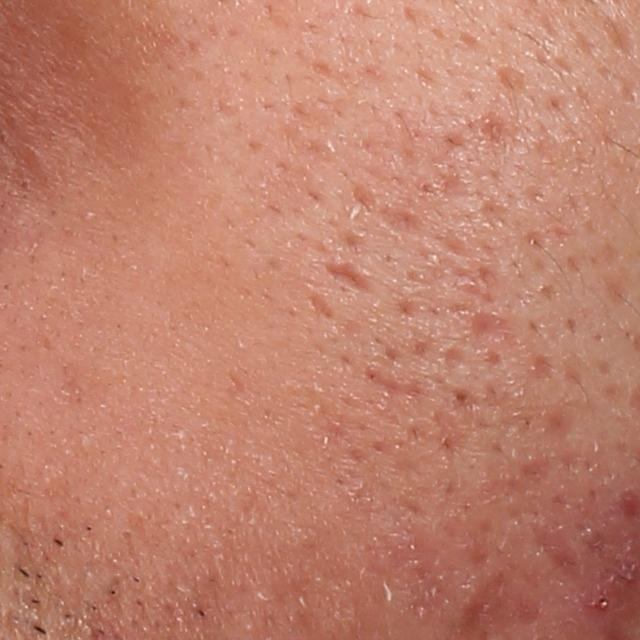atrophic_scar: (529, 518, 590, 578), (364, 363, 432, 403), (374, 200, 425, 241), (600, 14, 639, 57), (463, 312, 517, 341), (324, 262, 367, 293), (344, 181, 380, 218), (498, 65, 527, 95), (308, 292, 337, 319)
